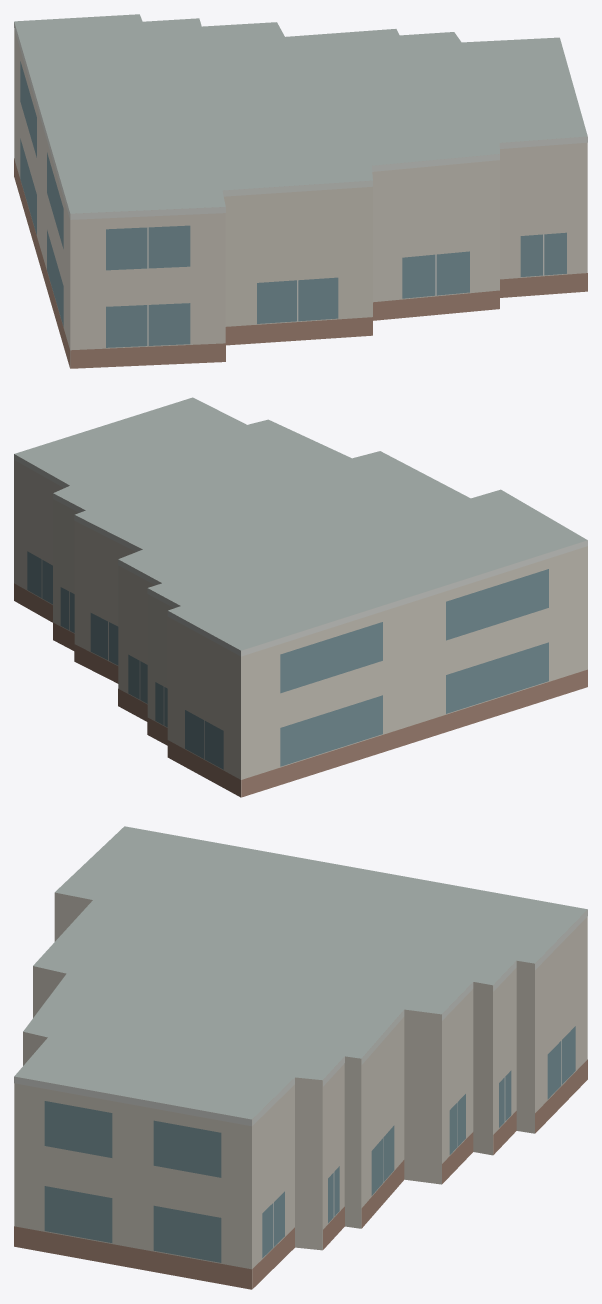
The model's file is survey-upis-32476142.glb.
3 renders of one model, top to bottom at view 1: azimuth 30°, elevation 25°; view 2: azimuth 150°, elevation 25°; view 3: azimuth 270°, elevation 25°, orthographic. The views are drawn at different scales.
Visible parts, largest first — view 1: survey-upis-32476142.tmp; view 2: survey-upis-32476142.tmp; view 3: survey-upis-32476142.tmp.
Part boxes in pixels (x1,y1,x2,y2): survey-upis-32476142.tmp: (14, 14, 587, 368); survey-upis-32476142.tmp: (14, 397, 587, 797); survey-upis-32476142.tmp: (14, 826, 587, 1289).
Size of the model in its own units: 22.56 by 6.1 by 18.65.
